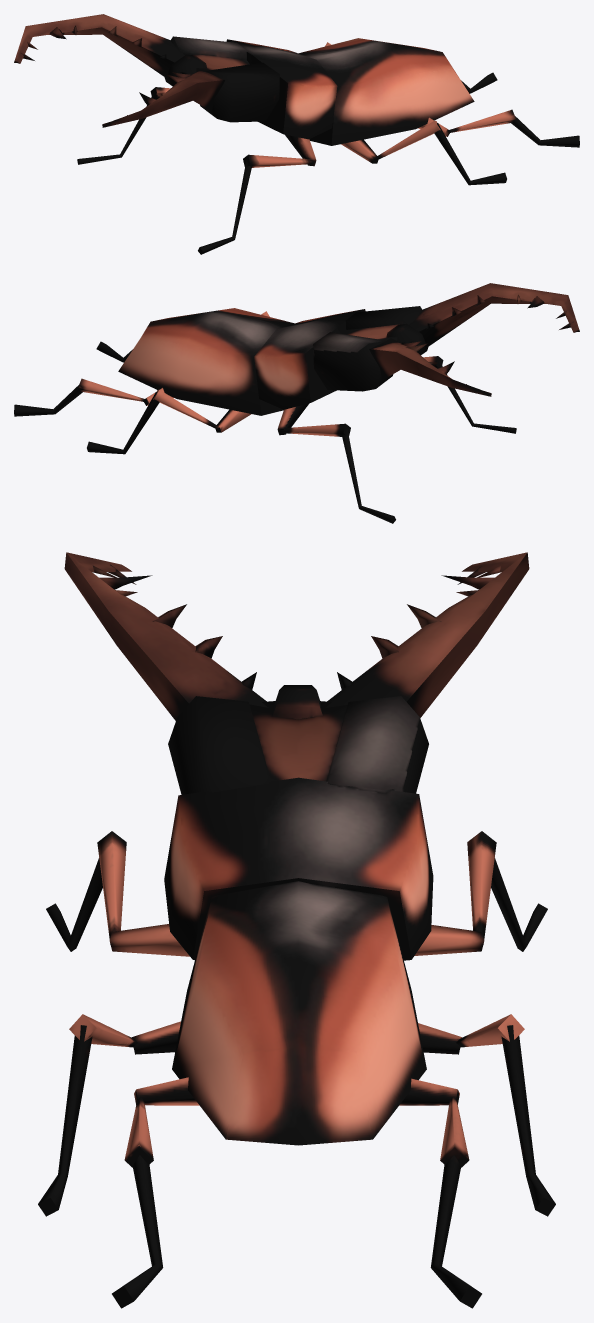
The picture shows the model from 3 angles, top to bottom: view 1: azimuth 30°, elevation 25°; view 2: azimuth 150°, elevation 25°; view 3: azimuth 270°, elevation 25°; orthographic projection. The views are drawn at different scales.
Parts seen in each view (by area): view 1: Bug_3; view 2: Bug_3; view 3: Bug_3.
Boxes of the visible parts, x1,y1,x2,y2 form: Bug_3: [14, 14, 579, 254]; Bug_3: [14, 283, 579, 523]; Bug_3: [38, 552, 555, 1308].
Bounding box in the file's own units: 97.91 × 31.36 × 45.79.
